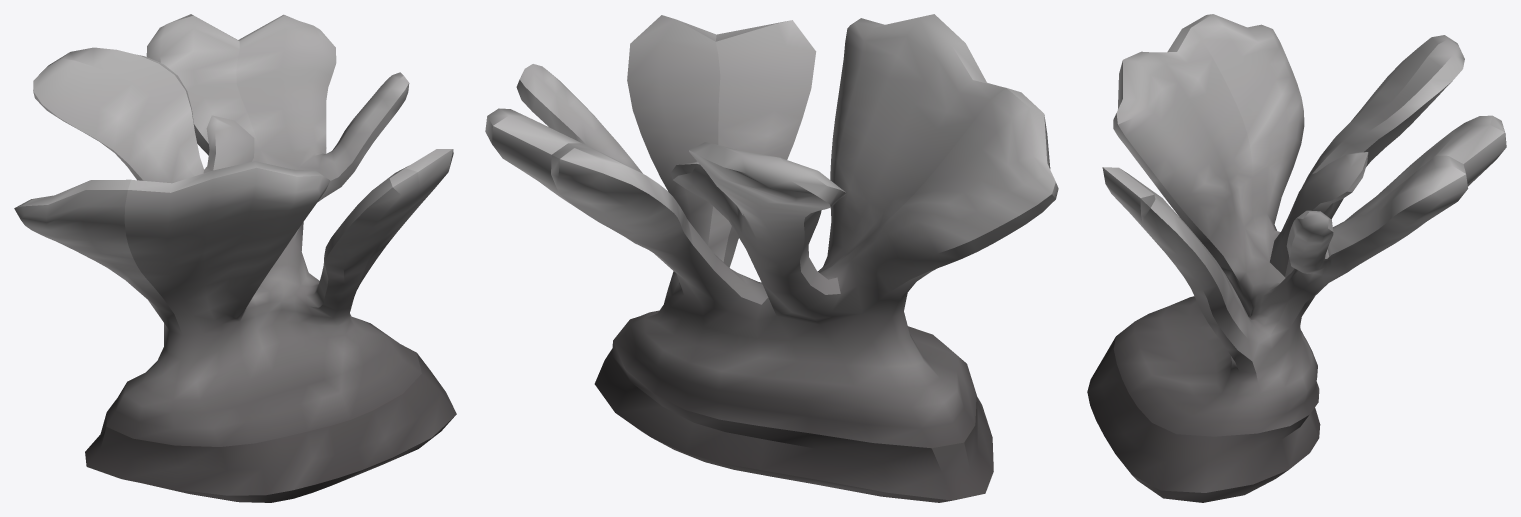
Rendered from acropora-palmata.glb.
3 views of the same model, side by side, from view 1: azimuth 30°, elevation 25°; view 2: azimuth 150°, elevation 25°; view 3: azimuth 270°, elevation 25° (orthographic). The views are drawn at different scales.
Parts seen in each view (by area): view 1: acropora-palmata; view 2: acropora-palmata; view 3: acropora-palmata.
Part boxes in pixels (x1=…): acropora-palmata: x1=14, y1=14, x2=456, y2=502; acropora-palmata: x1=485, y1=14, x2=1058, y2=502; acropora-palmata: x1=1087, y1=14, x2=1506, y2=502.
Bounding box in the file's own units: 0.2881 × 0.2204 × 0.2467.
Materials: 1 (1 with a texture image).
